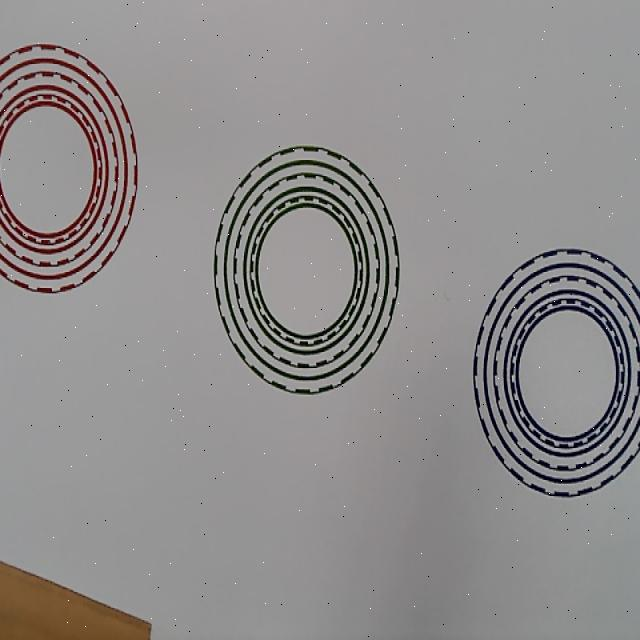g: (213, 146, 399, 396)
